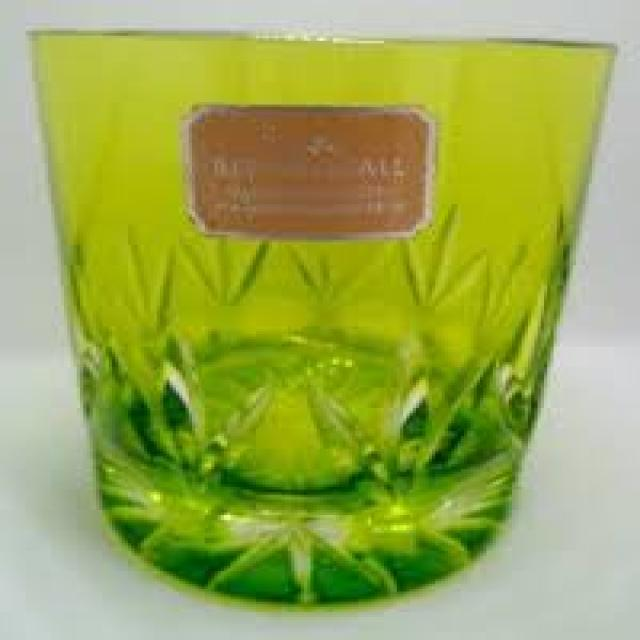glass: (26, 25, 615, 602)
